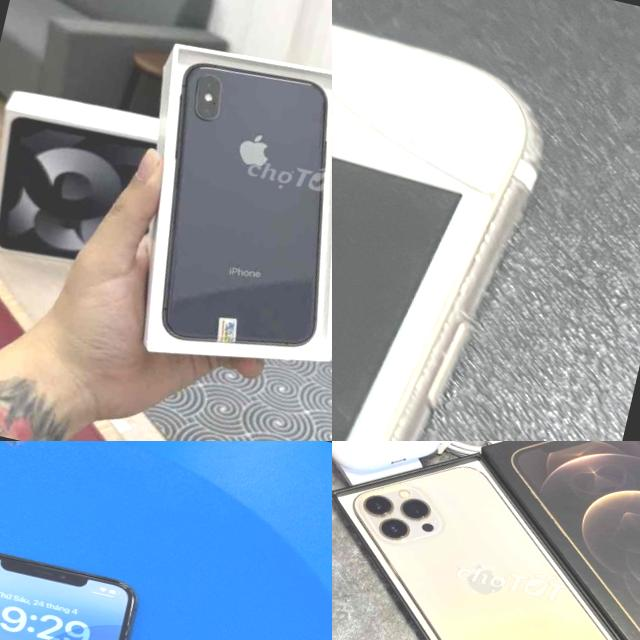physical_damage: (376, 114, 512, 214), (332, 77, 404, 152)
